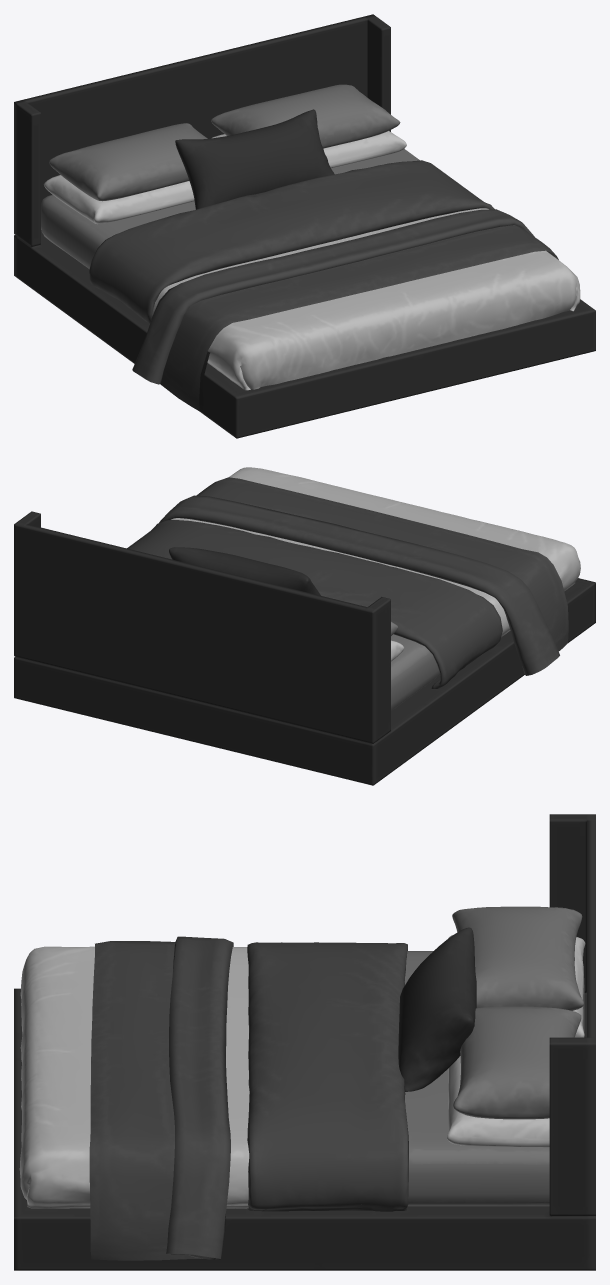
The model's file is bed.glb.
3 views of the same model, one above another, from view 1: azimuth 30°, elevation 25°; view 2: azimuth 150°, elevation 25°; view 3: azimuth 270°, elevation 25° (orthographic). The views are drawn at different scales.
Visible parts, largest first — view 1: Bed_LP_Default_0; view 2: Bed_LP_Default_0; view 3: Bed_LP_Default_0.
Boxes of the visible parts, bbox=[...] form: Bed_LP_Default_0: bbox=[14, 14, 595, 438]; Bed_LP_Default_0: bbox=[14, 467, 595, 785]; Bed_LP_Default_0: bbox=[14, 814, 595, 1270].
Size of the model in its own units: 2137 by 858 by 1993.
1 material, 1 textured.
